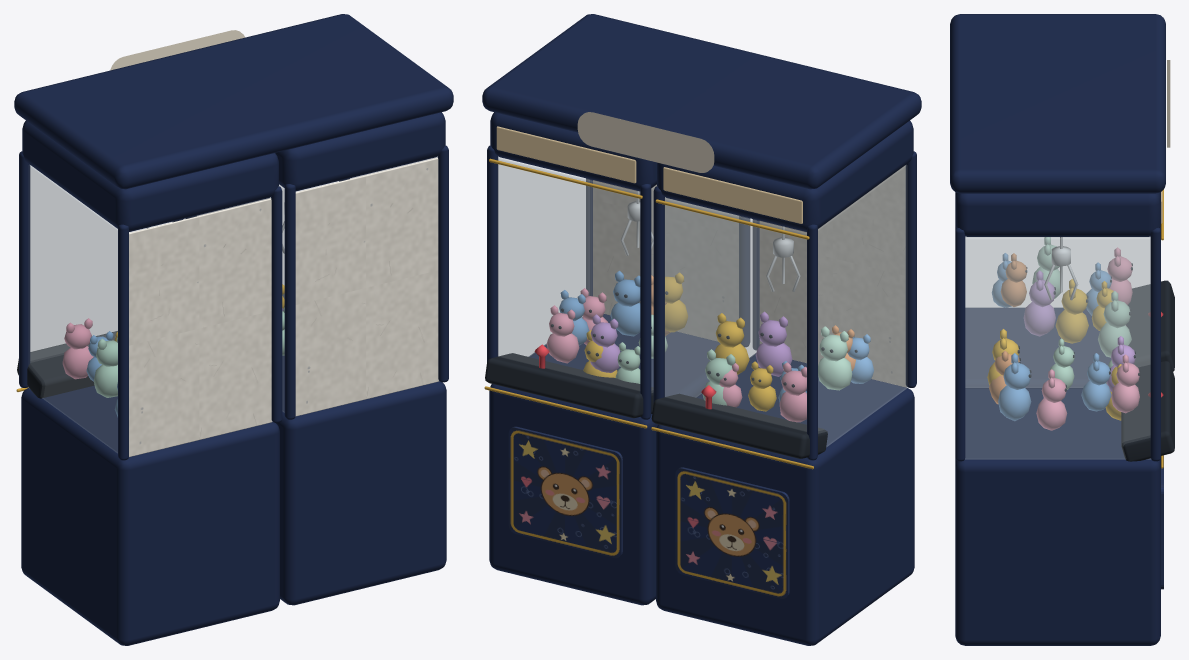
The model's file is claw_T2.fbx.
3 views of the same model, side by side, from view 1: azimuth 30°, elevation 25°; view 2: azimuth 150°, elevation 25°; view 3: azimuth 270°, elevation 25° (orthographic).
Visible parts, largest first — view 1: Body; view 2: Body; view 3: Body.
Boxes of the visible parts, x1=… form: Body: x1=14, y1=14, x2=453, y2=645; Body: x1=482, y1=14, x2=921, y2=645; Body: x1=950, y1=14, x2=1174, y2=645.
Bounding box in the file's own units: 1.5 × 2.07 × 0.8744.
